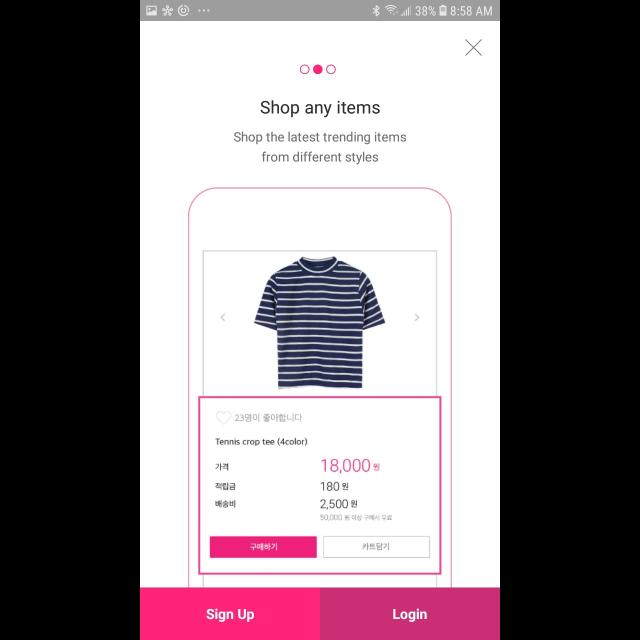icon: (465, 39, 483, 57)
image: (188, 188, 452, 588)
pageindicator: (300, 65, 336, 75)
text: (234, 132, 406, 164), (260, 100, 380, 118)
textbutton: (140, 588, 320, 640), (320, 588, 500, 640)
uppertaskbar: (140, 1, 500, 22)
